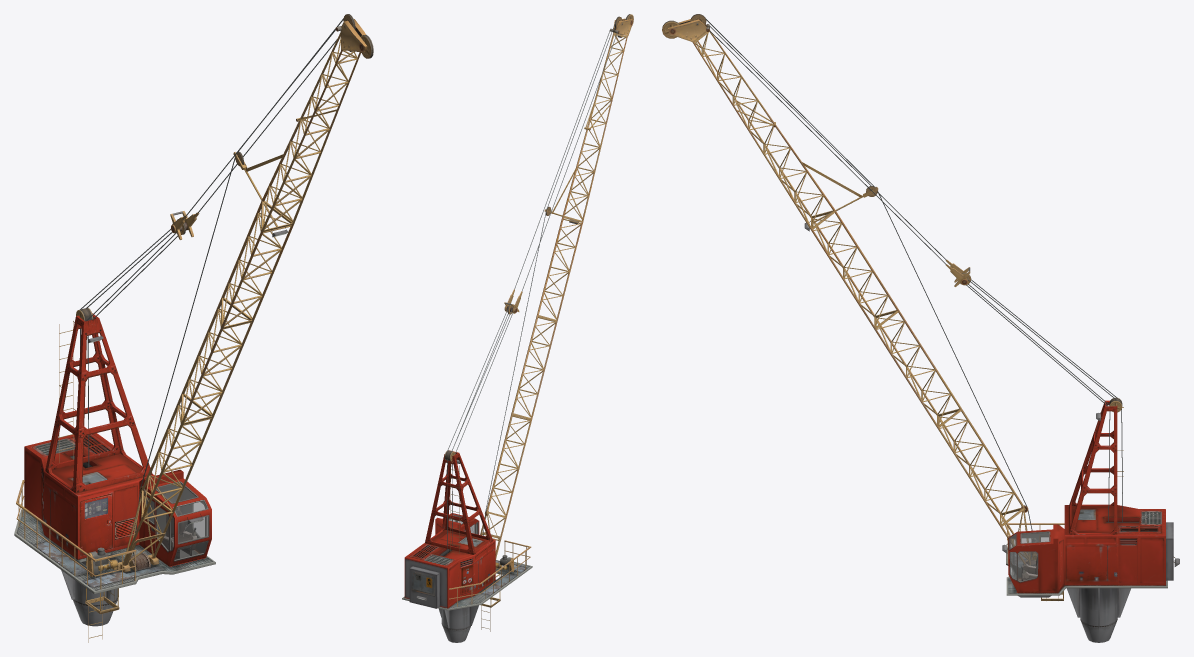
The model's file is oilRig_craneTop.fbx.
The picture shows the model from 3 angles, left to right: view 1: azimuth 30°, elevation 25°; view 2: azimuth 150°, elevation 25°; view 3: azimuth 270°, elevation 25°; orthographic projection. The views are drawn at different scales.
Visible parts, largest first — view 1: craneTop_AST; view 2: craneTop_AST; view 3: craneTop_AST.
Part boxes in pixels (left/top/right/bottom): craneTop_AST: left=14, top=14, right=373, bottom=642; craneTop_AST: left=402, top=14, right=633, bottom=642; craneTop_AST: left=662, top=14, right=1179, bottom=642.
Size of the model in its own units: 420 by 2605 by 1960.
